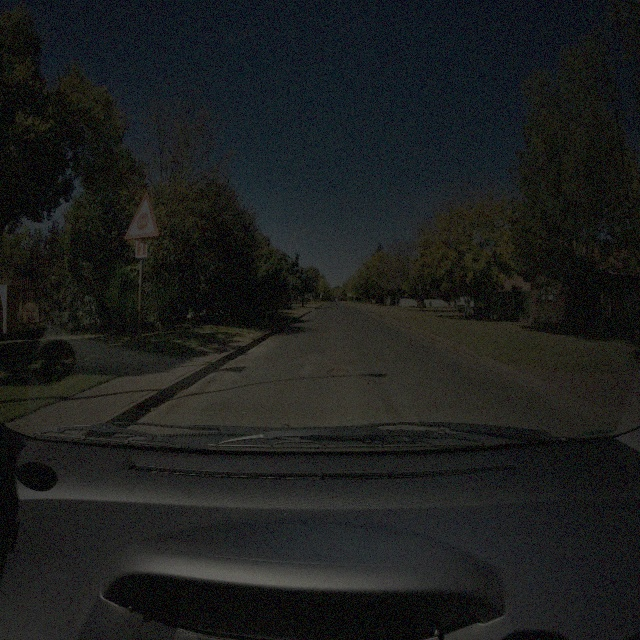pothole: (324, 364, 349, 378)
